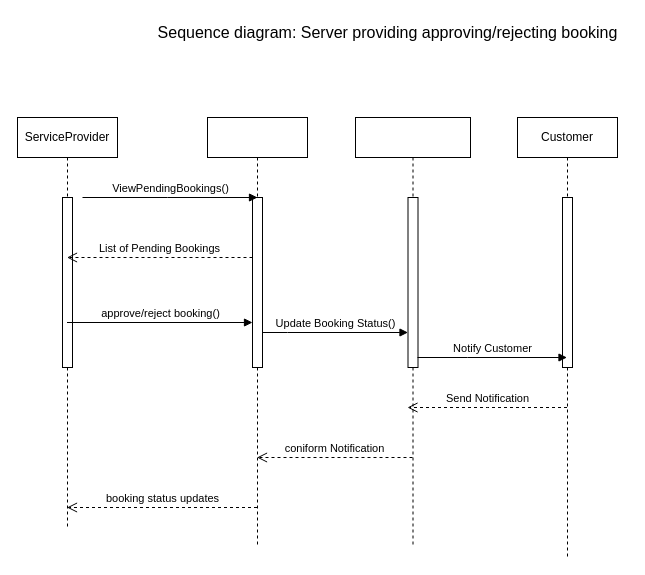
Image size: 645x575. Some labels were removed from this diagram. The centre of each missing label's shape, as x and y in pixels:
"NotificationSystem" goes at (x=412, y=332).
"System" goes at (x=257, y=332).
